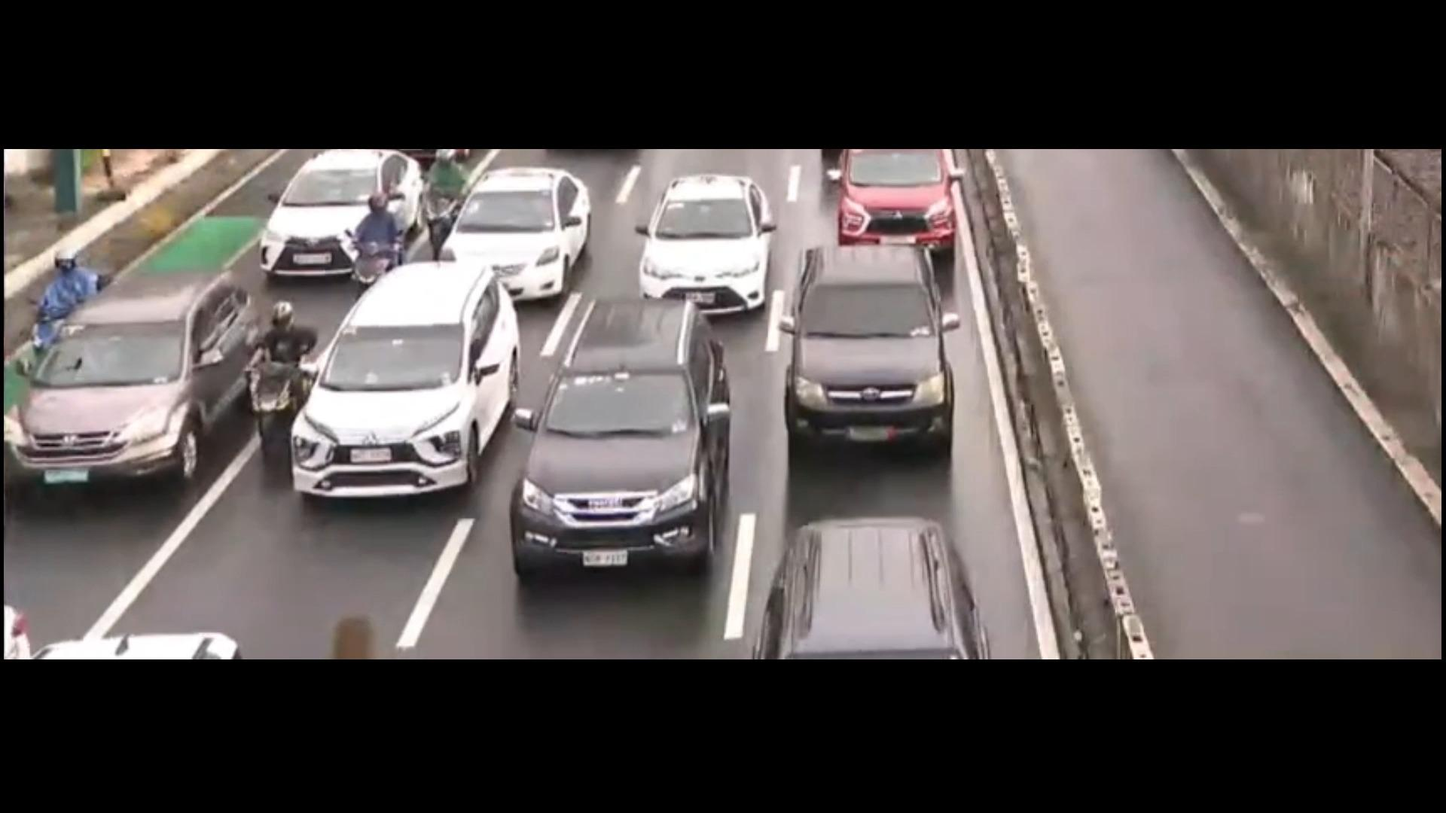Motorcycle: (226, 315, 338, 485), (4, 241, 111, 363), (397, 143, 486, 261), (334, 179, 405, 312)
SUV: (278, 262, 537, 529), (510, 296, 755, 578), (4, 258, 262, 505), (777, 243, 961, 468)
Sedan: (435, 158, 616, 312), (255, 151, 432, 291), (629, 166, 772, 318)
